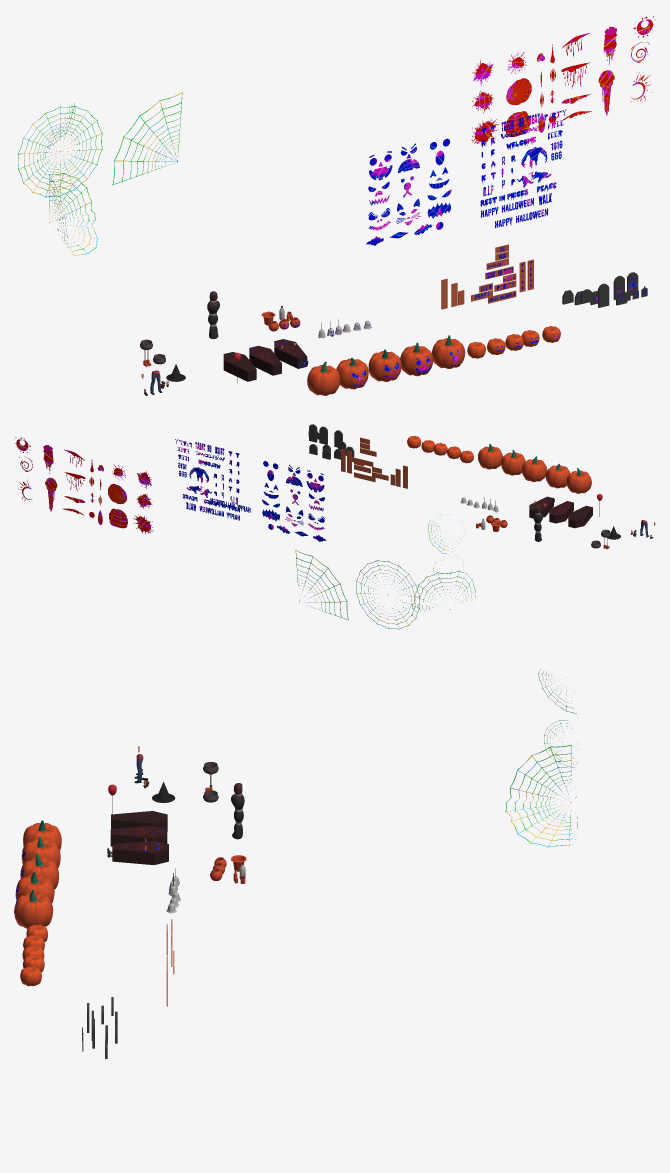
File: HallooweenDecor.gltf
3 views of the same model, one above another, from view 1: azimuth 30°, elevation 25°; view 2: azimuth 150°, elevation 25°; view 3: azimuth 270°, elevation 25° (orthographic). The views are drawn at different scales.
Visible parts, largest first — view 1: Cobwebs_8, Cobwebs_9, Pumpkin1_1, Pumpkin1_3, Pumpkin1_4, Pumpkin1_5, Pumpkin1_2, Cobwebs_LowerCorner, Coffin_3, Coffin_2, Coffin_1; view 2: Cobwebs_8, Cobwebs_9, Pumpkin1_1, Pumpkin1_3, Pumpkin1_5, Pumpkin1_4, Pumpkin1_2, Coffin_1, Coffin_2, Cobwebs_LowerCorner, Coffin_3; view 3: Cobwebs_LowerCorner, Coffin_3, Pumpkin1_5, Coffin_2, Coffin_1, Pumpkin1_2, Pumpkin1_4, Pumpkin1_3.
Part boxes in pixels (<box>): Cobwebs_8: <box>18,106,102,197</box>; Cobwebs_9: <box>112,92,182,185</box>; Pumpkin1_1: <box>307,361,340,395</box>; Pumpkin1_3: <box>368,349,401,381</box>; Pumpkin1_4: <box>400,342,433,376</box>; Pumpkin1_5: <box>432,335,465,368</box>; Pumpkin1_2: <box>336,357,368,389</box>; Cobwebs_LowerCorner: <box>49,173,98,256</box>; Coffin_3: <box>274,339,308,368</box>; Coffin_2: <box>249,346,281,375</box>; Coffin_1: <box>223,352,256,381</box>; Cobwebs_8: <box>356,560,419,629</box>; Cobwebs_9: <box>295,550,348,619</box>; Pumpkin1_1: <box>566,468,591,493</box>; Pumpkin1_3: <box>521,456,547,481</box>; Pumpkin1_5: <box>478,443,502,469</box>; Pumpkin1_4: <box>501,449,525,475</box>; Pumpkin1_2: <box>545,463,570,488</box>; Coffin_1: <box>568,505,592,528</box>; Coffin_2: <box>549,501,573,523</box>; Cobwebs_LowerCorner: <box>412,570,475,611</box>; Coffin_3: <box>529,496,554,518</box>; Cobwebs_LowerCorner: <box>505,745,577,847</box>; Coffin_3: <box>107,838,168,864</box>; Pumpkin1_5: <box>14,890,53,928</box>; Coffin_2: <box>110,825,167,846</box>; Coffin_1: <box>111,811,167,831</box>; Pumpkin1_2: <box>21,837,60,867</box>; Pumpkin1_4: <box>15,871,54,903</box>; Pumpkin1_3: <box>20,853,58,889</box>.
Size of the model in its own units: 32.47 by 6.72 by 22.27.
5 materials, 5 textured.
